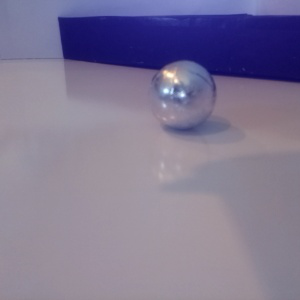zone: (57, 13, 300, 82)
